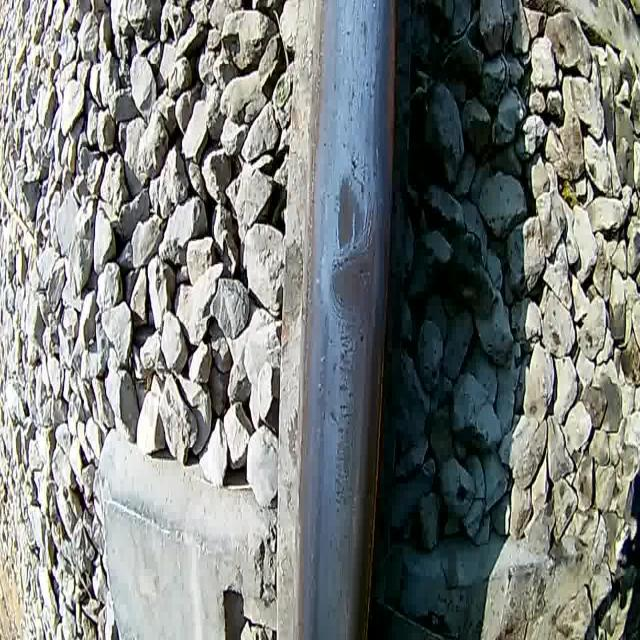Squats: (328, 238, 381, 330), (331, 168, 367, 255)
